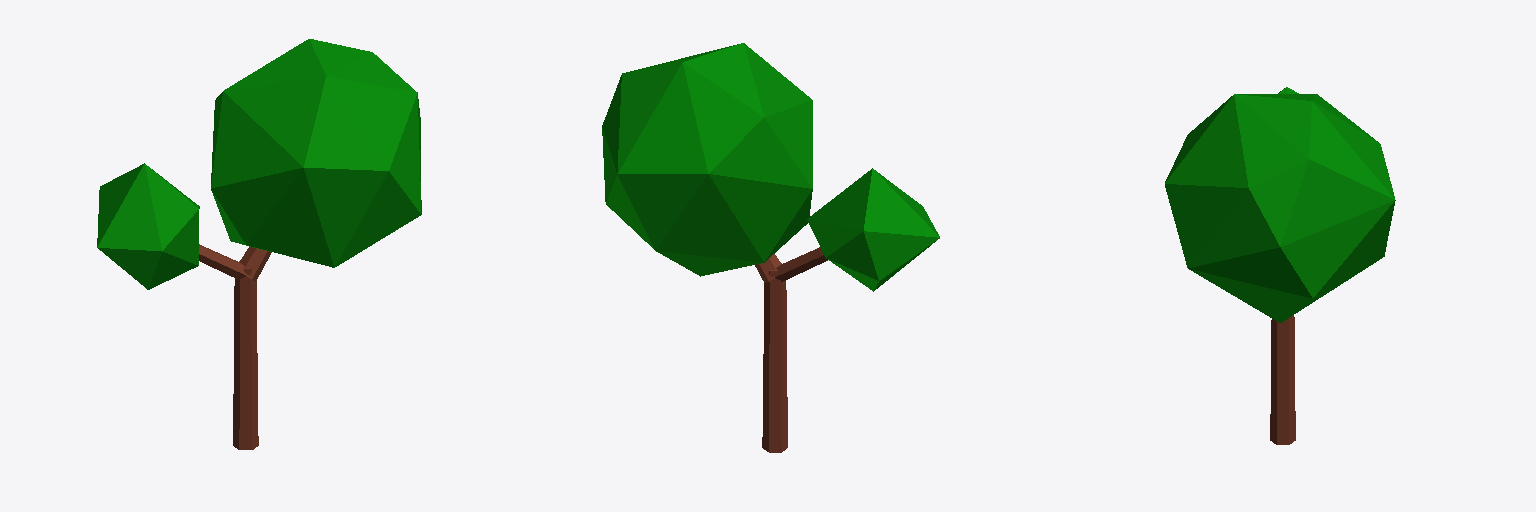
Rendered from tree_low-poly-double-trunk.obj.
The picture shows the model from 3 angles: view 1: azimuth 30°, elevation 25°; view 2: azimuth 150°, elevation 25°; view 3: azimuth 270°, elevation 25°; orthographic projection.
Parts seen in each view (by area): view 1: Cylinder.002_Cylinder.007; view 2: Cylinder.002_Cylinder.007; view 3: Cylinder.002_Cylinder.007.
Part boxes in pixels (left/top/right/bottom): Cylinder.002_Cylinder.007: left=97, top=39, right=421, bottom=449; Cylinder.002_Cylinder.007: left=602, top=43, right=939, bottom=452; Cylinder.002_Cylinder.007: left=1165, top=87, right=1395, bottom=444.
Bounding box in the file's own units: 6.04 × 6.57 × 3.65.